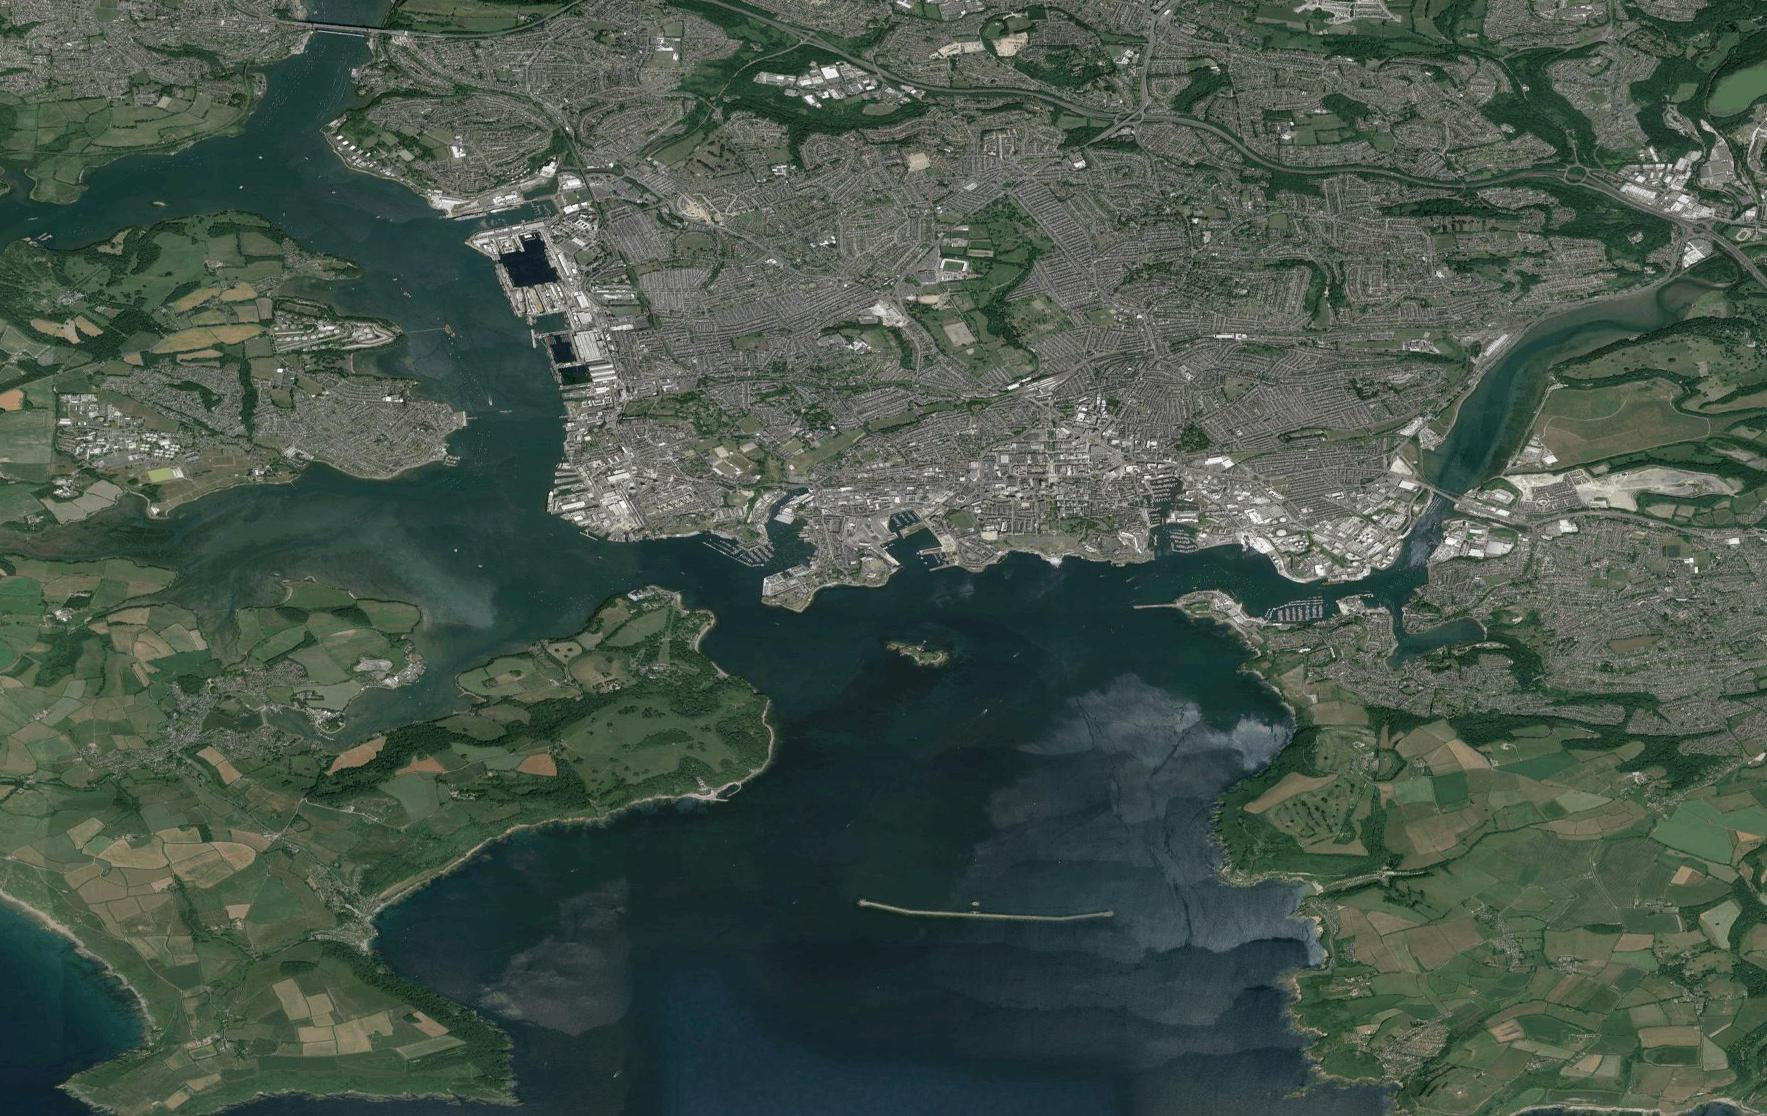bridge: (1647, 210, 1767, 282), (1090, 105, 1213, 134), (803, 39, 892, 77), (713, 1, 802, 39), (1579, 174, 1651, 217), (1001, 87, 1092, 117), (1214, 130, 1277, 171), (894, 73, 999, 95), (1387, 168, 1483, 190), (1486, 167, 1582, 189), (1280, 162, 1385, 180), (312, 19, 380, 36), (1429, 485, 1462, 504)
harbor: (700, 507, 811, 571), (1141, 477, 1209, 555), (878, 509, 956, 576), (1261, 591, 1339, 626)
industrial: (1626, 156, 1716, 222)
train_station: (1013, 375, 1061, 392)
